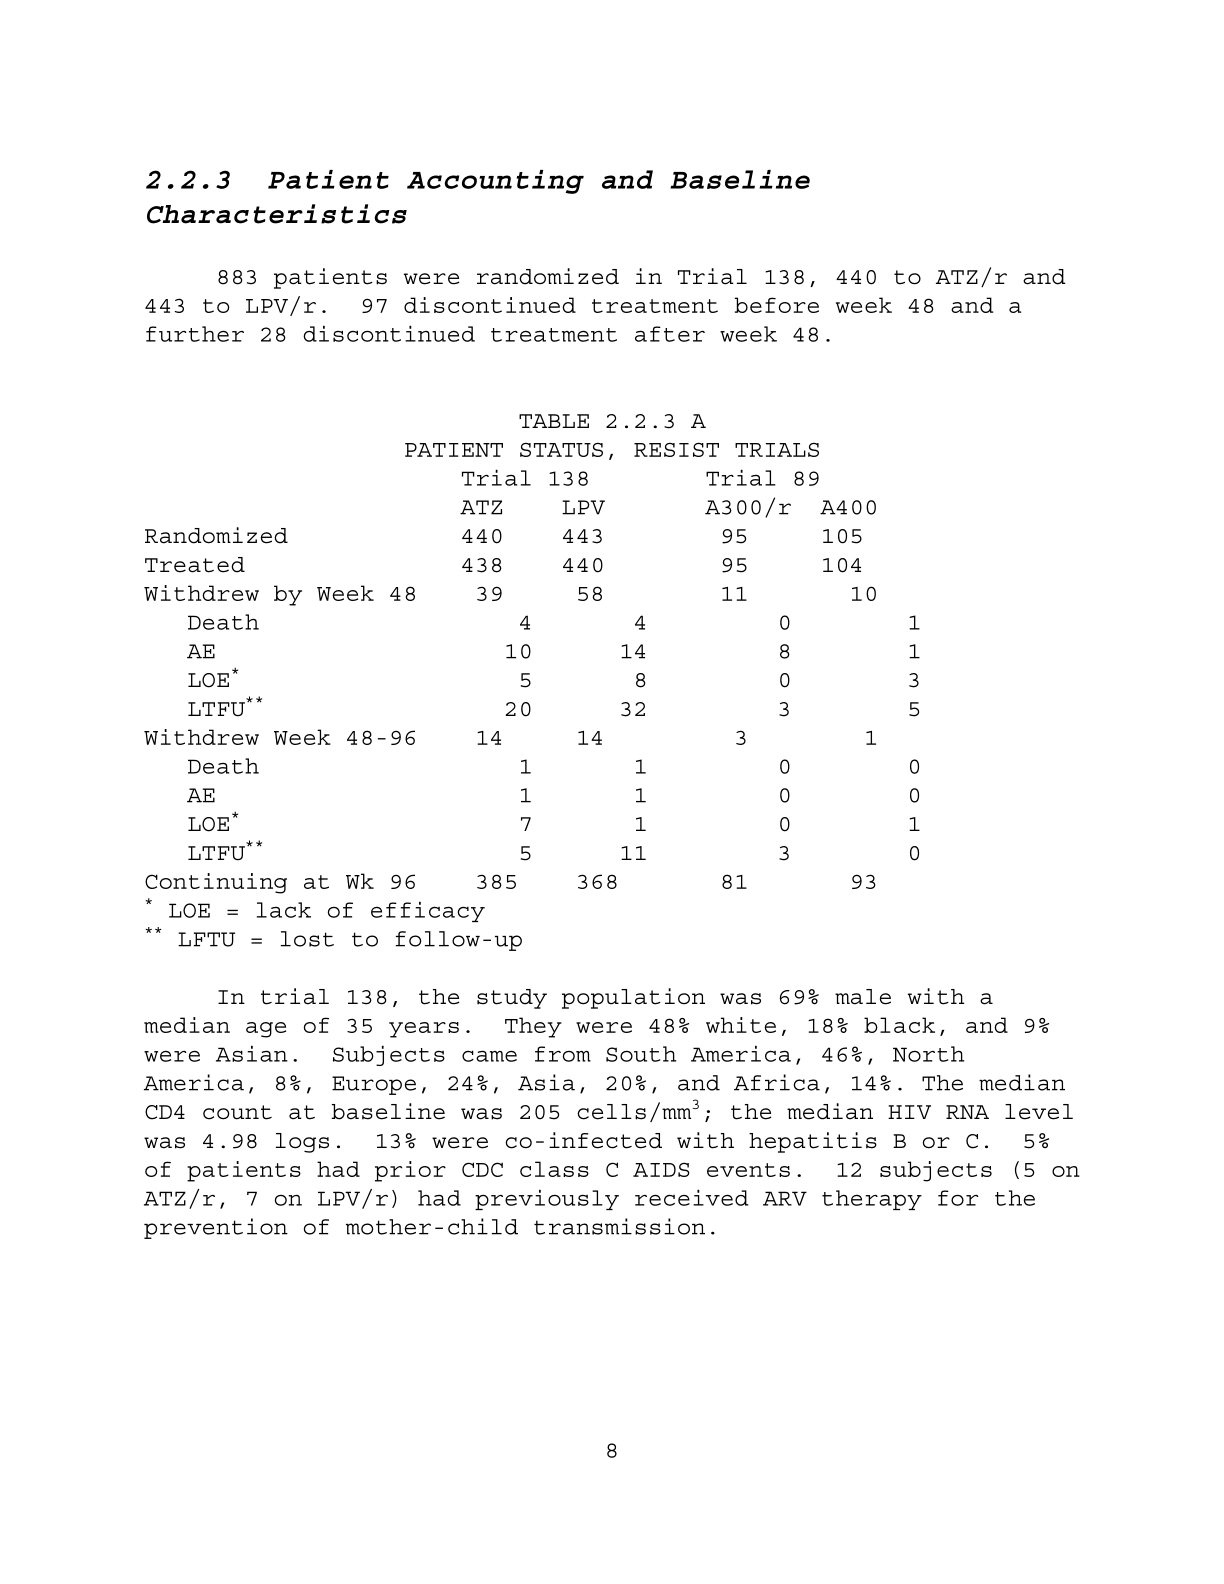nolines: (138, 438, 930, 894)
